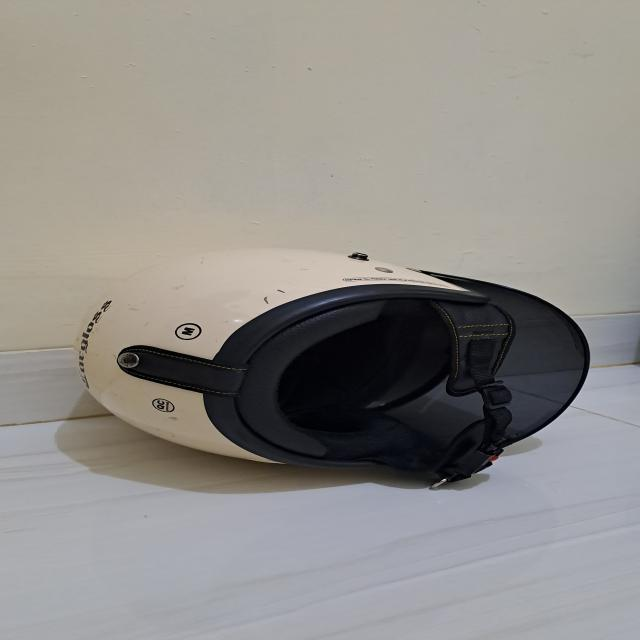Helm: (52, 235, 602, 496)
